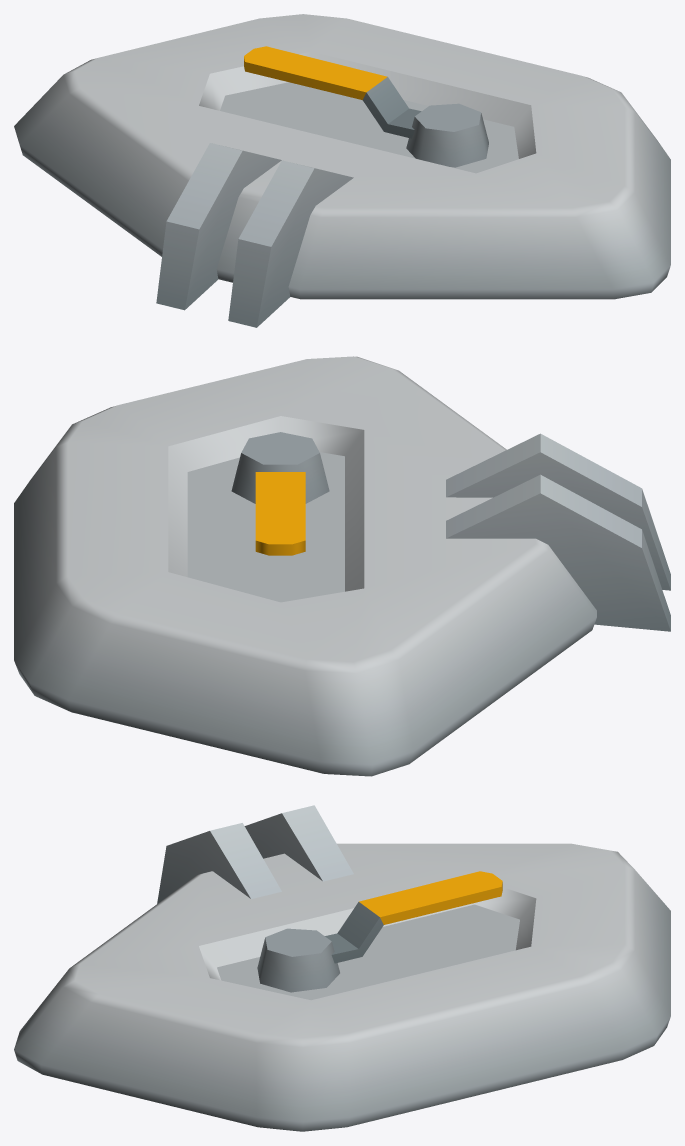
File: Hatch_007_door_001.fbx
3 renders of one model, top to bottom at view 1: azimuth 30°, elevation 25°; view 2: azimuth 150°, elevation 25°; view 3: azimuth 270°, elevation 25°, orthographic. The views are drawn at different scales.
Visible parts, largest first — view 1: Hatch_007_door_001; view 2: Hatch_007_door_001; view 3: Hatch_007_door_001.
Boxes of the visible parts, box(x1,y1,x2,y2) form: Hatch_007_door_001: box(14, 14, 670, 327); Hatch_007_door_001: box(14, 356, 670, 776); Hatch_007_door_001: box(14, 805, 670, 1131).
Size of the model in its own units: 70.76 by 76.8 by 15.71.
